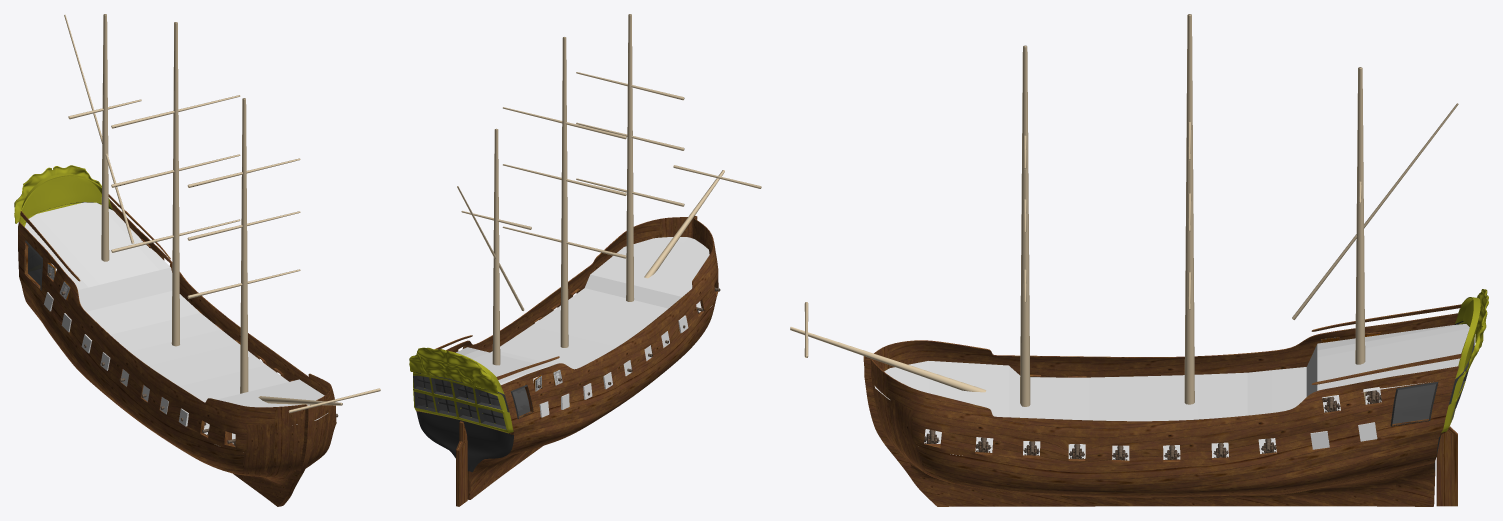
Rendered from modele.glb.
3 views of the same model, side by side, from view 1: azimuth 30°, elevation 25°; view 2: azimuth 150°, elevation 25°; view 3: azimuth 270°, elevation 25° (orthographic). The views are drawn at different scales.
Visible parts, largest first — view 1: Coque, pont, GrandMat, Misaine, Artimon, Coque.011, Antenne, Beaupre; view 2: Coque, pont, GrandMat, Misaine, Coque.011, Artimon, rudder, Beaupre; view 3: Coque, pont, GrandMat, Misaine, Artimon, rudder, Beaupre, Plane, Antenne.
Boxes of the visible parts, x1,y1,x2,y2 form: Coque: (18, 173, 336, 506); pont: (25, 202, 327, 425); GrandMat: (111, 22, 240, 346); Misaine: (187, 98, 300, 393); Artimon: (68, 14, 141, 261); Coque.011: (14, 165, 101, 223); Antenne: (64, 14, 134, 243); Beaupre: (258, 396, 342, 405); Coque: (413, 216, 718, 499); pont: (456, 237, 709, 384); GrandMat: (502, 37, 626, 347); Misaine: (576, 14, 684, 301); Coque.011: (409, 347, 497, 392); Artimon: (461, 128, 531, 365); rudder: (456, 421, 467, 506); Beaupre: (644, 170, 724, 278); Coque: (863, 297, 1480, 506); pont: (874, 324, 1469, 421); GrandMat: (1184, 14, 1194, 404); Misaine: (1020, 45, 1030, 406); Artimon: (1355, 67, 1365, 403); rudder: (1436, 426, 1457, 506); Beaupre: (790, 327, 986, 392); Plane: (924, 389, 1381, 460); Antenne: (1292, 103, 1458, 319).
Size of the model in its own units: 8.55 by 25.97 by 33.56.
8 materials, 3 textured.
